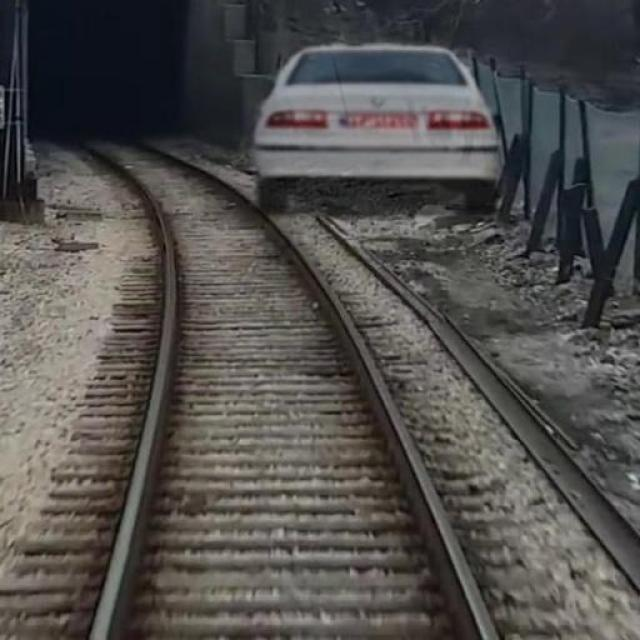vehicle: (242, 36, 511, 218)
